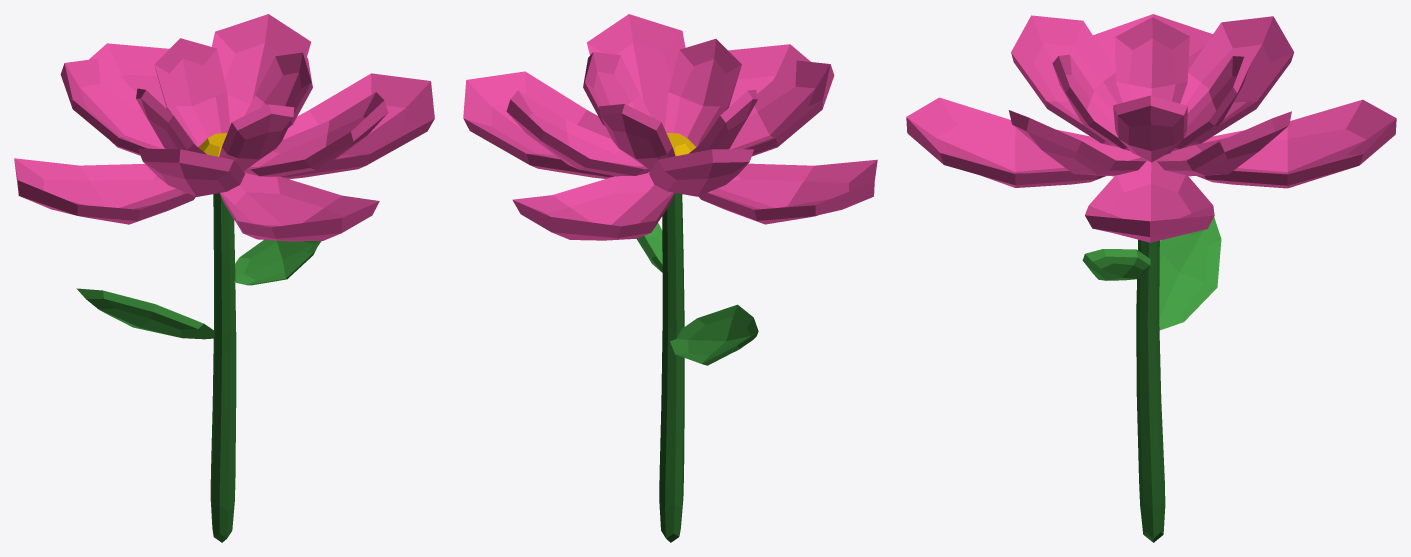
File: FPINK_STEM.fbx
The picture shows the model from 3 angles, left to right: view 1: azimuth 30°, elevation 25°; view 2: azimuth 150°, elevation 25°; view 3: azimuth 270°, elevation 25°; orthographic projection. The views are drawn at different scales.
Parts seen in each view (by area): view 1: pCube21 (×6), pCube22 (×6), pCube23, pCube24, pCube25; view 2: pCube22 (×6), pCube21 (×6), pCube23, pCube24, pCube25; view 3: pCube22 (×6), pCube21 (×6), pCube23, pCube24, pCube25.
Boxes of the visible parts, x1=… form: pCube21 (×6): x1=14, y1=52, x2=434, y2=224; pCube22 (×6): x1=89, y1=14, x2=379, y2=241; pCube23: x1=210, y1=193, x2=236, y2=542; pCube24: x1=76, y1=288, x2=214, y2=339; pCube25: x1=234, y1=240, x2=321, y2=285; pCube22 (×6): x1=506, y1=39, x2=834, y2=240; pCube21 (×6): x1=463, y1=14, x2=877, y2=224; pCube23: x1=659, y1=193, x2=684, y2=542; pCube24: x1=670, y1=304, x2=758, y2=365; pCube25: x1=637, y1=223, x2=662, y2=272; pCube22 (×6): x1=906, y1=15, x2=1396, y2=188; pCube21 (×6): x1=1008, y1=14, x2=1294, y2=242; pCube23: x1=1136, y1=239, x2=1165, y2=542; pCube24: x1=1159, y1=217, x2=1221, y2=330; pCube25: x1=1082, y1=249, x2=1150, y2=280.
Bounding box in the file's own units: 0.4124 × 0.4522 × 0.4124.
